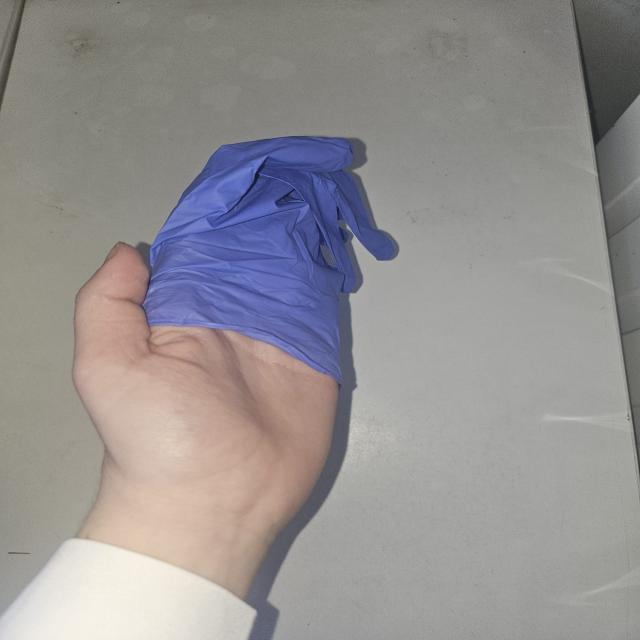glove_partial: (73, 133, 402, 537)
